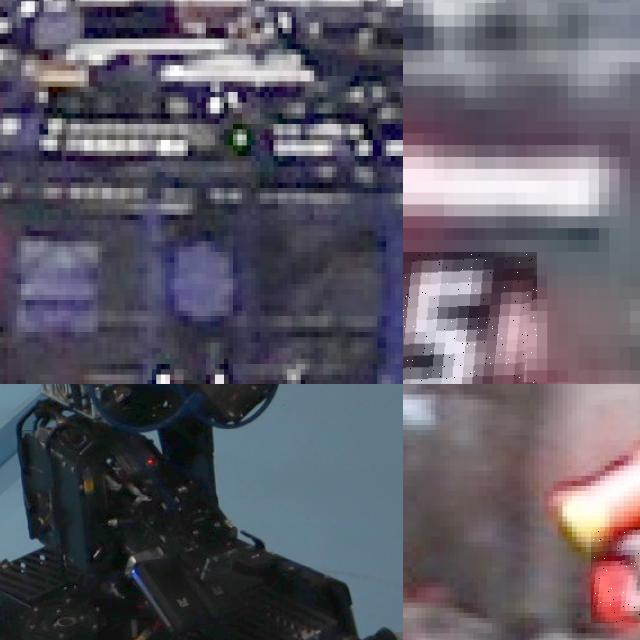R2: (590, 526, 640, 623)
R5: (403, 252, 536, 384)
